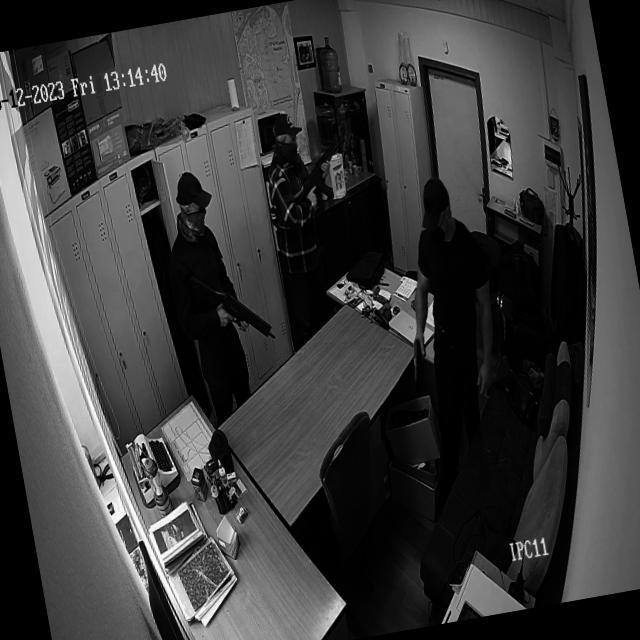gun: (186, 257, 276, 354), (294, 132, 356, 206), (403, 334, 430, 390)
person with a gun: (388, 176, 507, 447), (154, 170, 253, 397), (255, 114, 341, 333)
